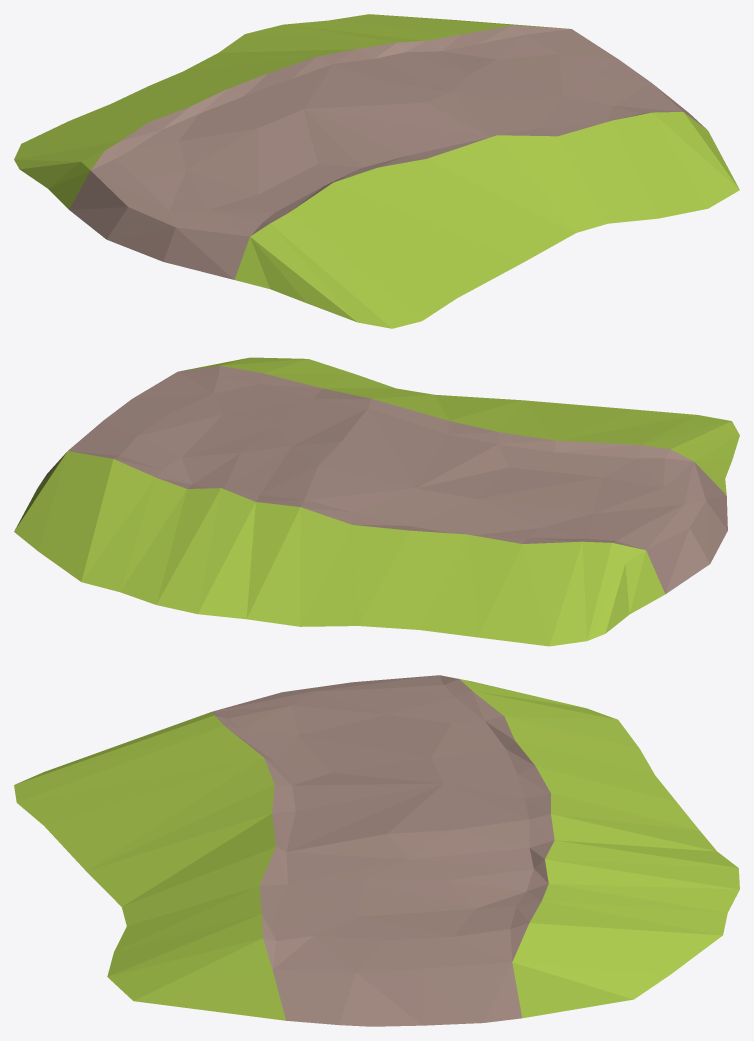
The model's file is Road_005.glb.
3 views of the same model, one above another, from view 1: azimuth 30°, elevation 25°; view 2: azimuth 150°, elevation 25°; view 3: azimuth 270°, elevation 25° (orthographic). The views are drawn at different scales.
Visible parts, largest first — view 1: Road_005; view 2: Road_005; view 3: Road_005.
Part boxes in pixels (x1,y1,x2,y2): Road_005: (14, 14, 739, 328); Road_005: (14, 357, 739, 646); Road_005: (14, 675, 739, 1026).
Bounding box in the file's own units: 35.18 × 3.34 × 34.55.
Materials: 1 (1 with a texture image).
